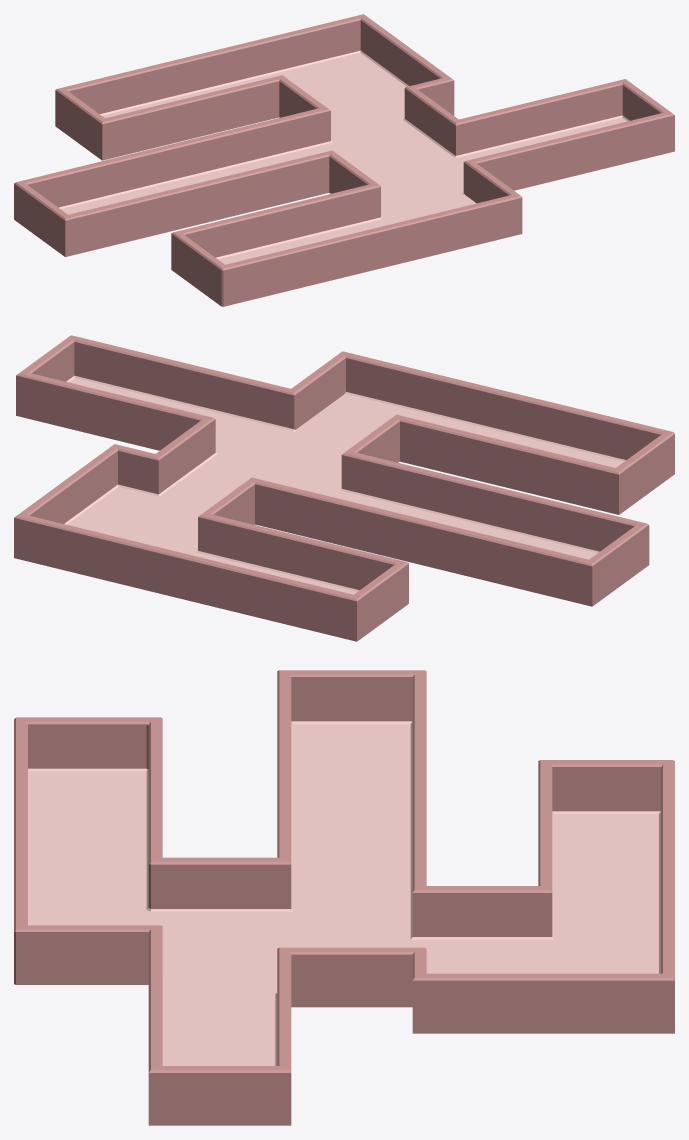
The model's file is mismatch.fbx.
3 views of the same model, one above another, from view 1: azimuth 30°, elevation 25°; view 2: azimuth 150°, elevation 25°; view 3: azimuth 270°, elevation 25° (orthographic). The views are drawn at different scales.
Parts seen in each view (by area): view 1: Table_Shape.001, Table_Shape.010, Table_Shape.014, Table_Shape.016, Table_Shape.002, Table_Shape.008, Table_Shape.018, Table_Shape.012, Table_Shape.006, Table_Shape.003, Table_Shape.011, Table_Shape.015 (+7 smaller); view 2: Table_Shape.001, Table_Shape.002, Table_Shape.016, Table_Shape.010, Table_Shape.014, Table_Shape.012, Table_Shape.008, Table_Shape.006, Table_Shape.018, Table_Shape.003, Table_Shape.015, Table_Shape.011 (+7 smaller); view 3: Table_Shape.001, Table_Shape.003, Table_Shape.007, Table_Shape.009, Table_Shape.013, Table_Shape.017, Table_Shape.005, Table_Shape.015, Table_Shape.011, Table_Shape.019, Table_Shape.016, Table_Shape.010 (+6 smaller).
Part boxes in pixels (x1,y1,x2,y2): Table_Shape.001: (61, 53, 626, 264); Table_Shape.010: (223, 195, 522, 306); Table_Shape.014: (65, 150, 331, 256); Table_Shape.016: (16, 108, 332, 208); Table_Shape.002: (58, 14, 363, 115); Table_Shape.008: (466, 112, 674, 190); Table_Shape.018: (102, 75, 281, 160); Table_Shape.012: (174, 184, 380, 258); Table_Shape.006: (455, 79, 624, 157); Table_Shape.003: (360, 14, 451, 86); Table_Shape.011: (171, 232, 224, 306); Table_Shape.015: (14, 182, 67, 256); Table_Shape.001: (67, 378, 623, 594); Table_Shape.002: (14, 515, 356, 641); Table_Shape.016: (252, 477, 592, 606); Table_Shape.010: (343, 351, 672, 461); Table_Shape.014: (340, 452, 646, 553); Table_Shape.012: (397, 414, 618, 514); Table_Shape.008: (71, 335, 294, 430); Table_Shape.006: (16, 372, 212, 450); Table_Shape.018: (196, 514, 406, 591); Table_Shape.003: (17, 444, 118, 524); Table_Shape.015: (589, 523, 649, 606); Table_Shape.011: (616, 432, 674, 514); Table_Shape.001: (30, 724, 658, 1065); Table_Shape.003: (412, 973, 674, 1033); Table_Shape.007: (148, 1066, 291, 1125); Table_Shape.009: (16, 925, 159, 984); Table_Shape.013: (146, 857, 292, 911); Table_Shape.017: (411, 886, 553, 939); Table_Shape.005: (280, 947, 423, 1007); Table_Shape.015: (280, 670, 423, 724); Table_Shape.011: (16, 717, 160, 771); Table_Shape.019: (540, 760, 672, 813); Table_Shape.016: (410, 670, 426, 939); Table_Shape.010: (14, 717, 29, 984).
Bounding box in the file's own units: 1563 × 99.4 × 1087.
